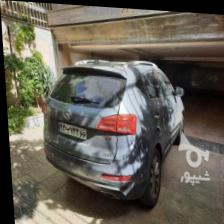plate: (55, 120, 86, 139)
